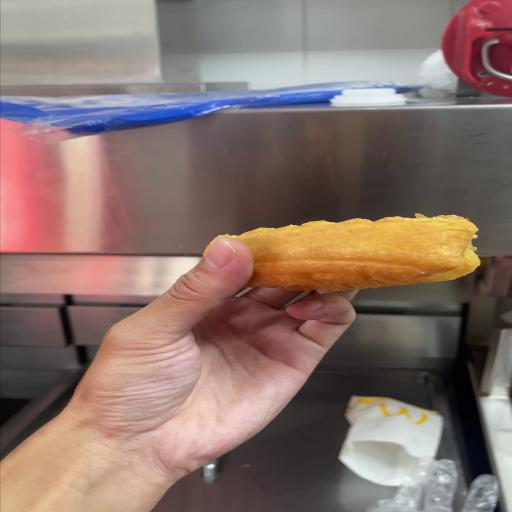brand_golden_good: (241, 214, 481, 292)
